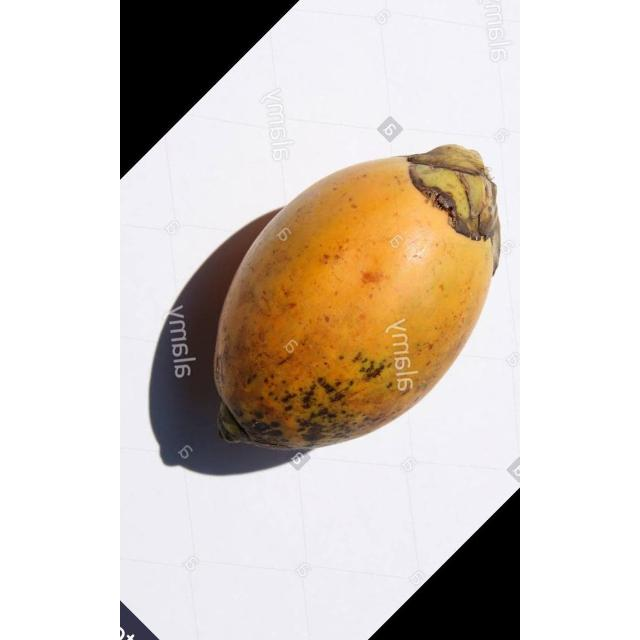good: (213, 145, 502, 456)
